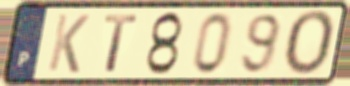0: (190, 10, 234, 77)
8: (144, 10, 185, 76)
9: (238, 12, 284, 75)
K: (45, 12, 92, 75)
O: (282, 8, 338, 78)
T: (102, 13, 141, 75)
